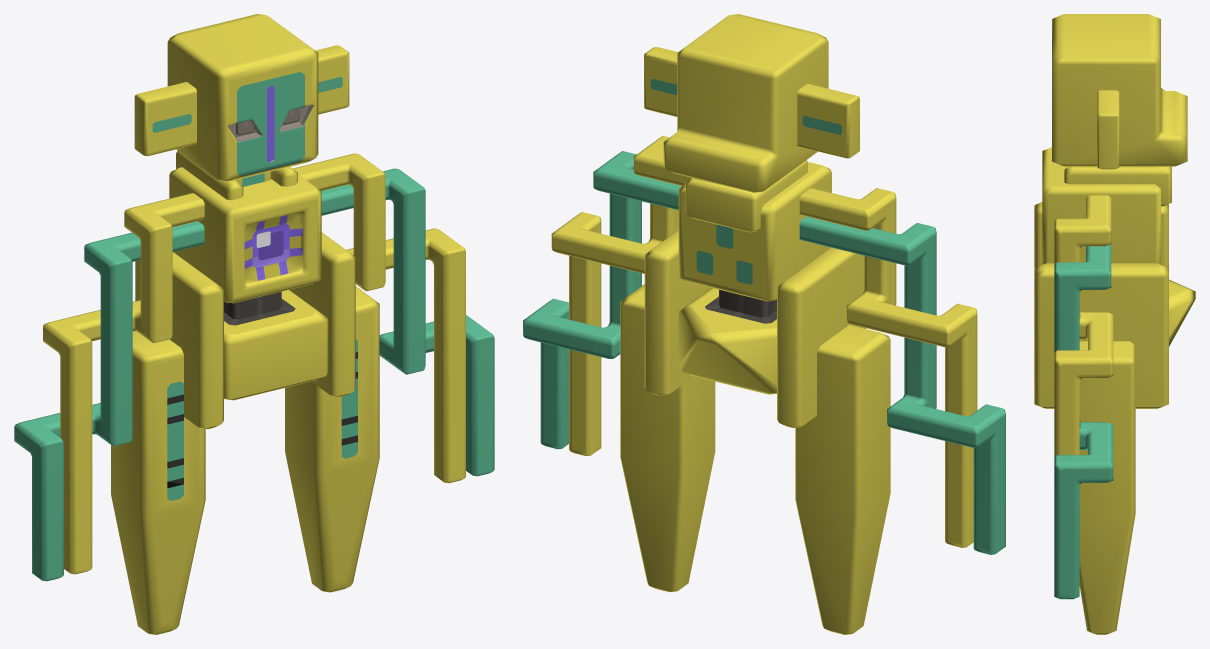
The model's file is model_shiny.obj.
3 renders of one model, left to right at view 1: azimuth 30°, elevation 25°; view 2: azimuth 150°, elevation 25°; view 3: azimuth 270°, elevation 25°, orthographic. The views are drawn at different scales.
Visible parts, largest first — view 1: 0386_deoxys_normal_shiny; view 2: 0386_deoxys_normal_shiny; view 3: 0386_deoxys_normal_shiny.
Part boxes in pixels (<box>): 0386_deoxys_normal_shiny: <box>14,14,494,634</box>; 0386_deoxys_normal_shiny: <box>523,14,1005,634</box>; 0386_deoxys_normal_shiny: <box>1034,14,1195,634</box>.
Bounding box in the file's own units: 3.37 × 4.02 × 1.06.
